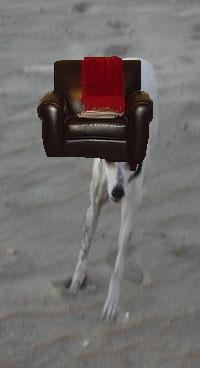tampered: (38, 57, 153, 171)
